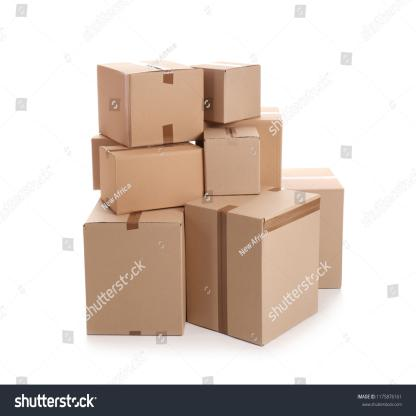box: (82, 221, 184, 336), (184, 202, 262, 346), (128, 68, 205, 147), (116, 147, 204, 216), (300, 190, 345, 290), (204, 137, 260, 195), (224, 64, 261, 124)
